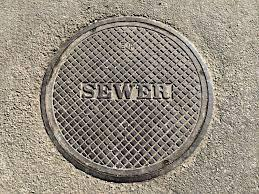closed manhole-not overflowing-: (39, 15, 216, 184)
